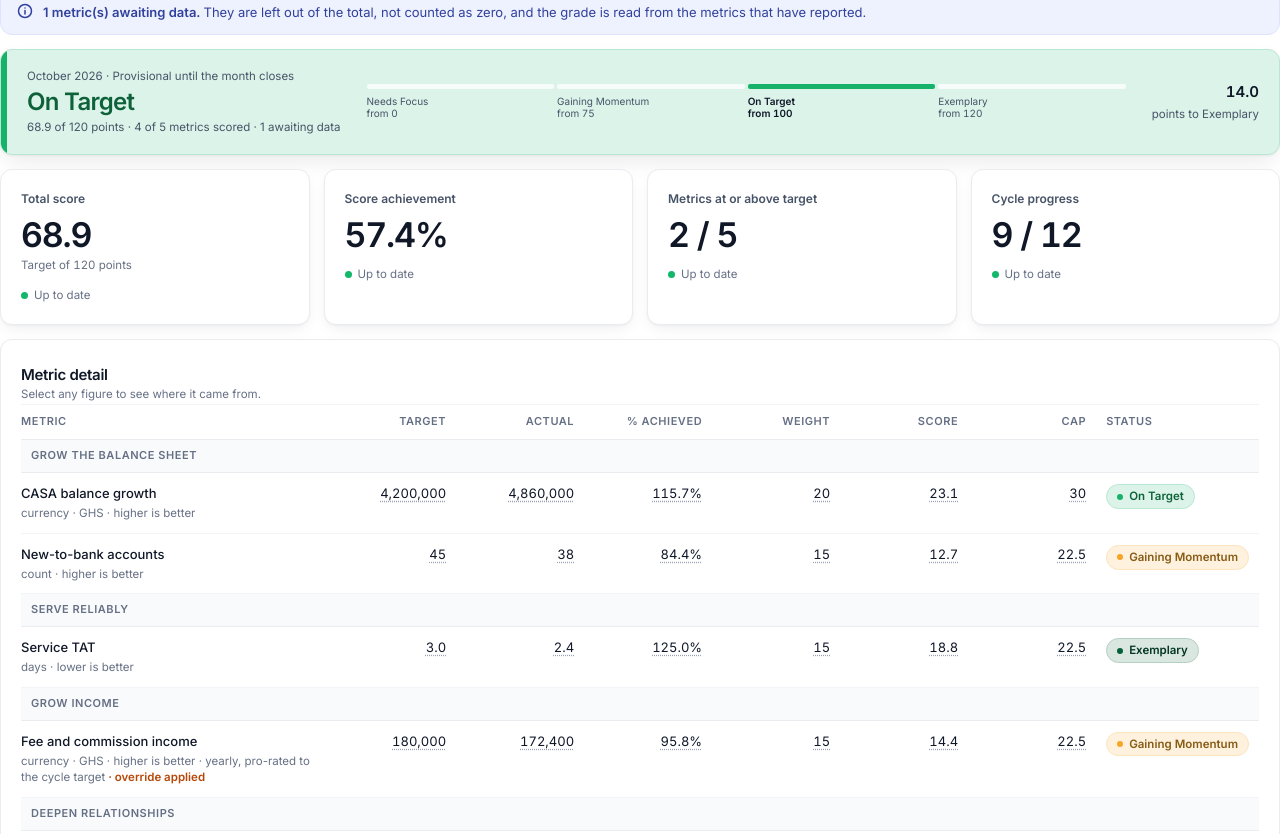
it: scorecard › opens provenance from any figure
What coordinates should you click on to do the following:
click the button named "Target for Fee and commission income"
I would click on:
 (419, 741)
Its box is [388, 730, 450, 753].
(page scrolled)
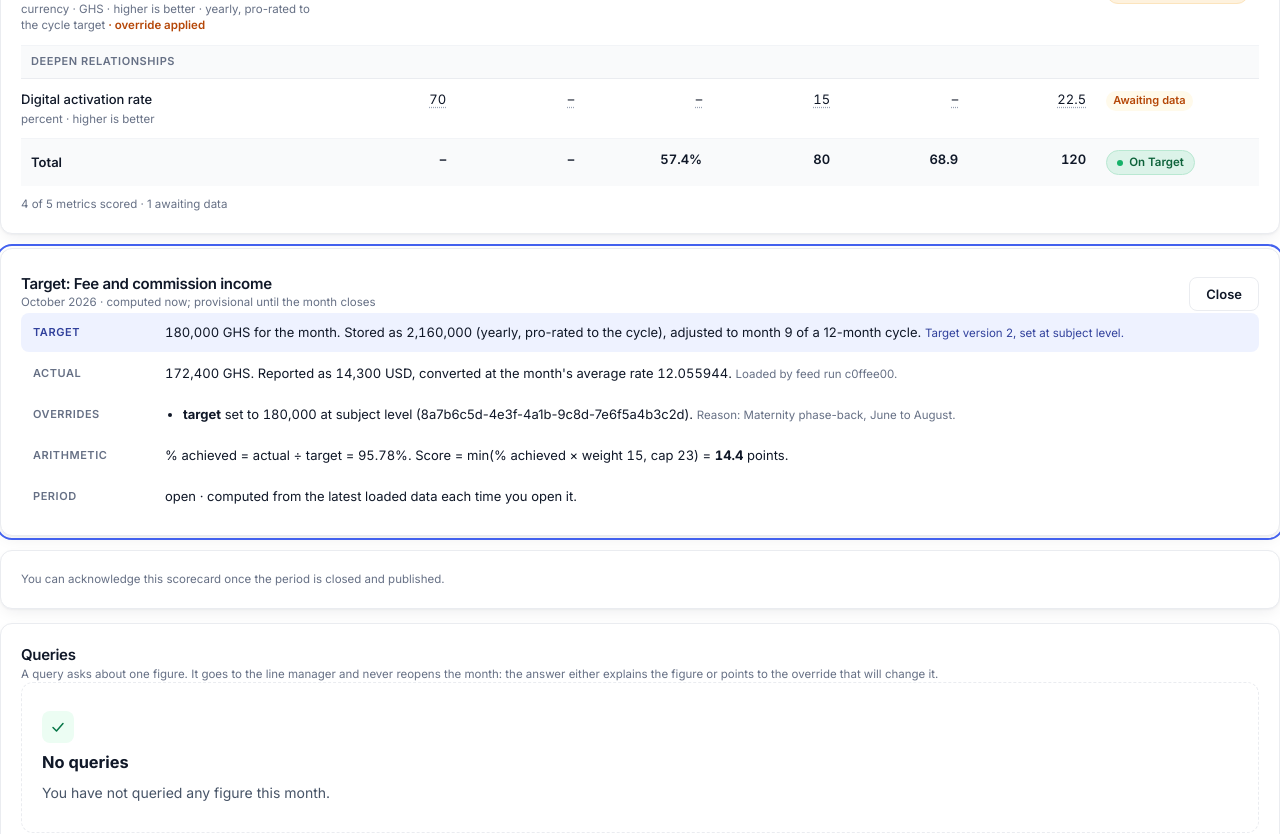
Expected: the element "Target: Fee and commission income" shows "Stored as 2,160,000 (yearly, pro-rated to the cycle)", [0, 248, 1279, 536]
Expected: the element "Target: Fee and commission income" shows "Maternity phase-back", [744, 408, 956, 422]
Expected: the element "Target: Fee and commission income" shows "Reported as 14,300 USD", [0, 248, 1279, 536]
What coordinates should you click on to do the following:
click the button "Close"
I would click on:
 (1224, 294)
Its box is [1189, 277, 1259, 311].
(page scrolled)
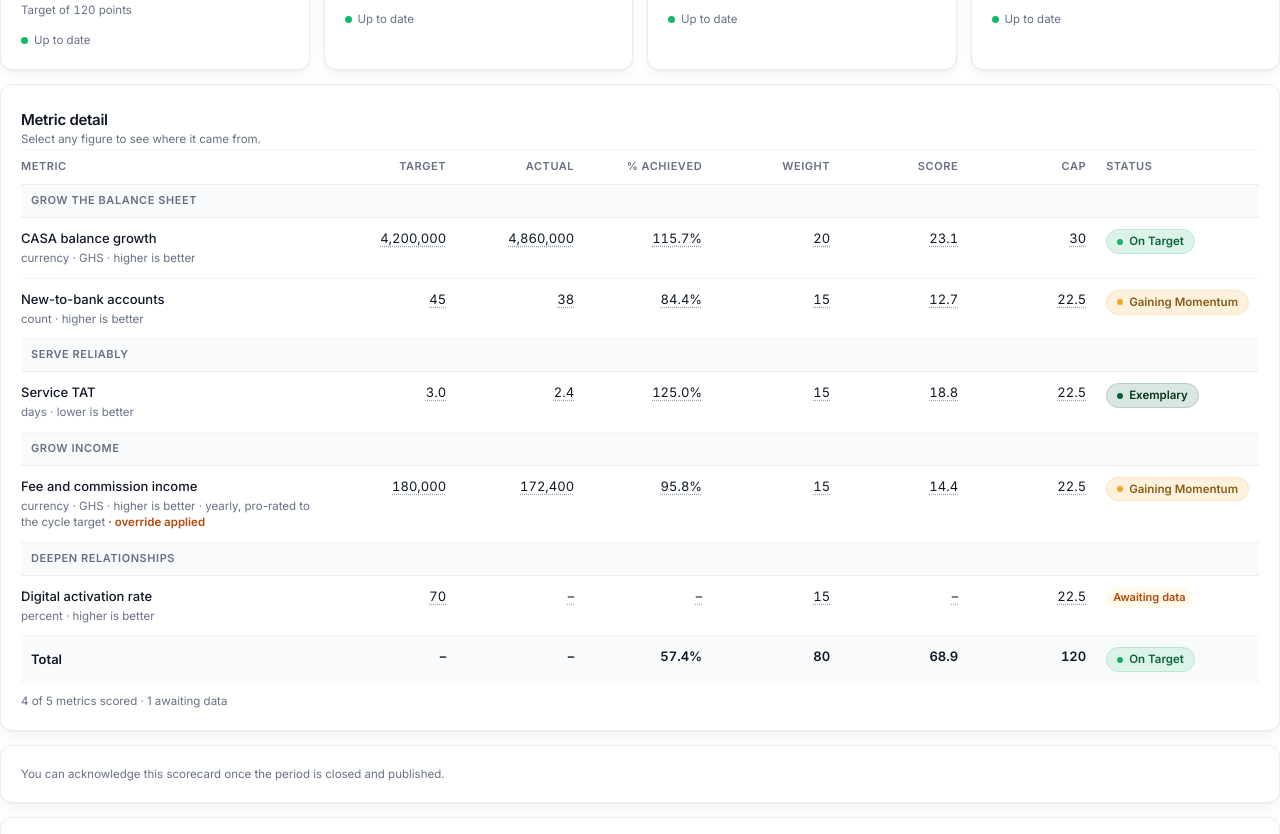
Expected: the heading "Target: Fee" is gone
What coordinates should you click on to do the following:
click the button named "Score for Service TAT"
I would click on:
 (944, 393)
Its box is [925, 381, 962, 404].
(page scrolled)
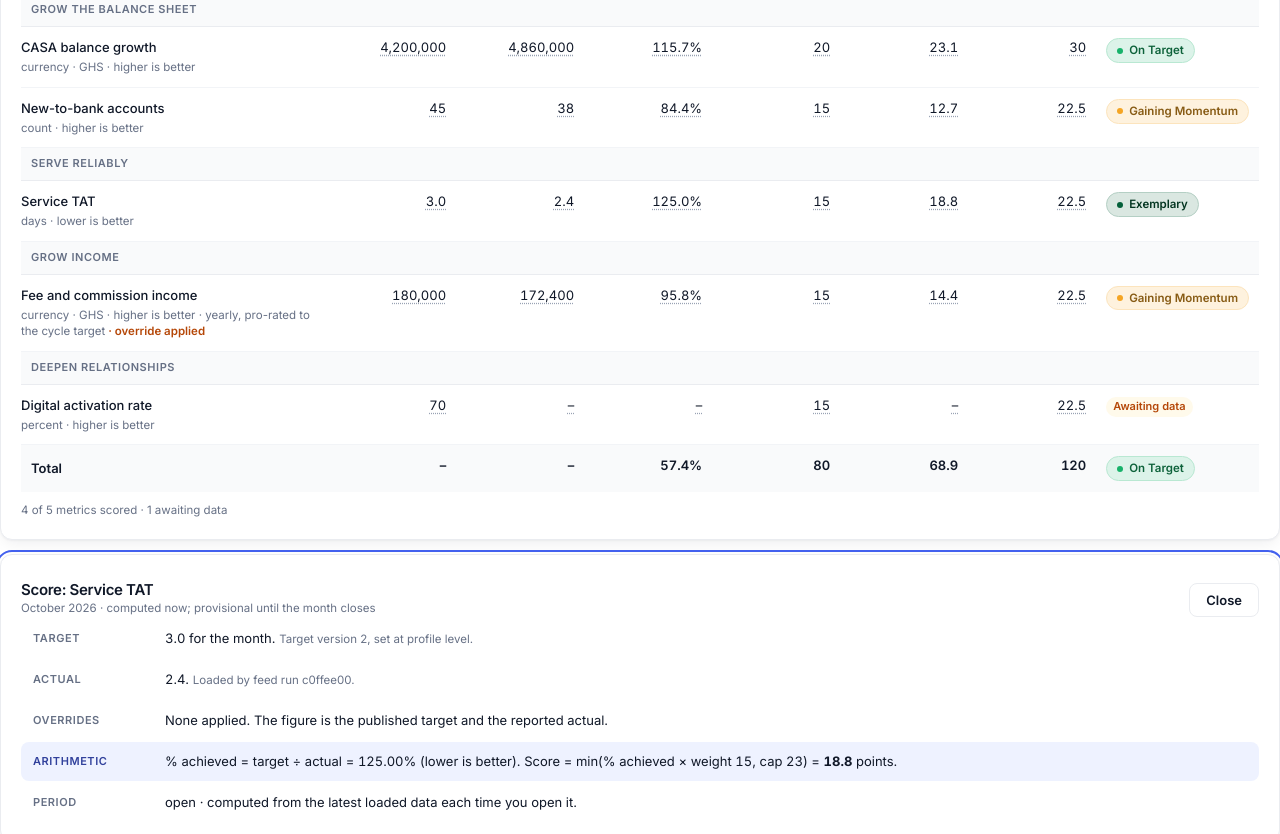
Expected: the element "Score: Service TAT" shows "target ÷ actual", [253, 753, 342, 769]
